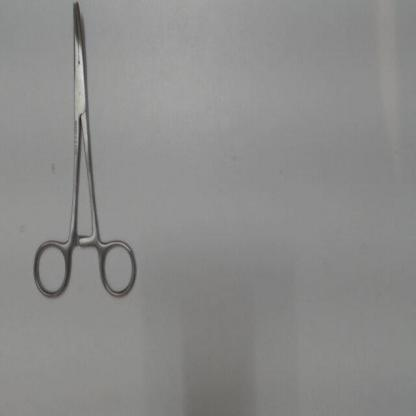Crile Artery Forceps: (28, 1, 142, 302)
